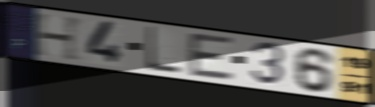3: (248, 41, 287, 88)
4: (86, 19, 127, 68)
6: (293, 46, 336, 94)
E: (187, 31, 237, 83)
H: (33, 12, 85, 63)
L: (145, 25, 183, 76)
